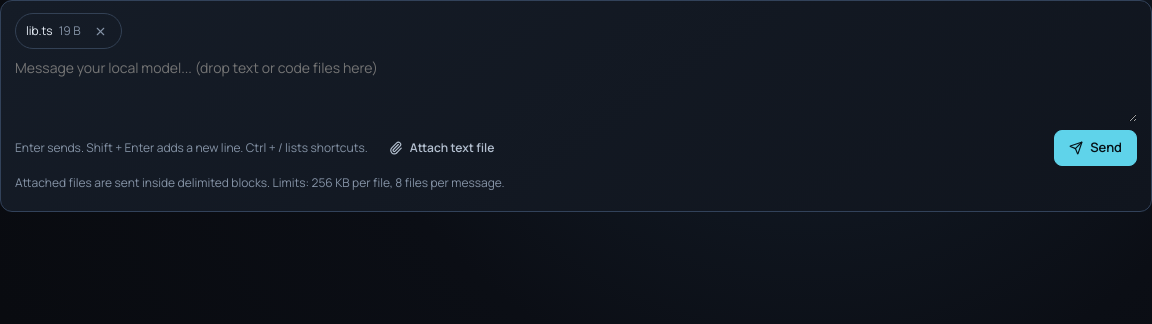
Test case: Composer attachments › attaches a dropped text file as a chip and sends it inside a delimited block
Earlier steps of the test are not shown.
Expected: the text "lib.ts" is shown, top-left (26, 22), bottom-right (53, 40)
Type "What is wrong here?" into the text box labelled "Message" at (576, 90), box top-left (15, 57), bottom-right (1137, 122)
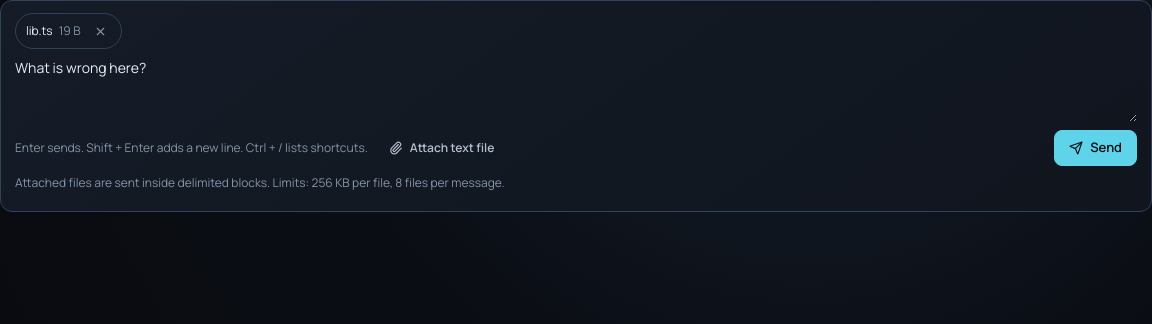
Click the button "Send" at (1096, 148), box top-left (1054, 130), bottom-right (1137, 166)
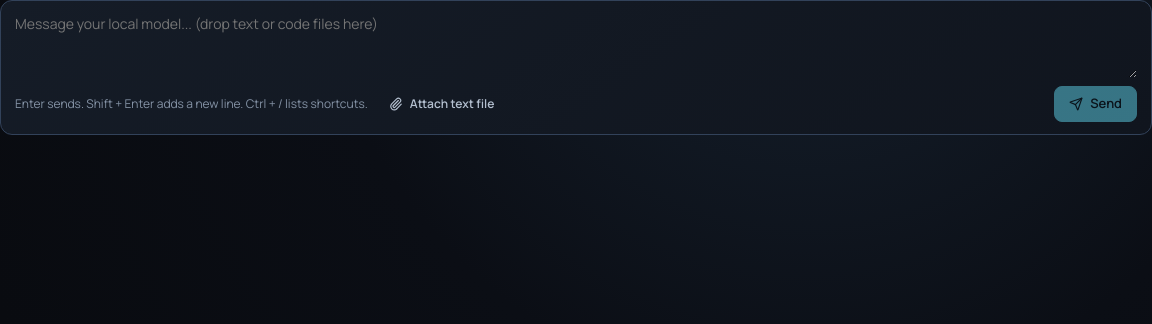
Expected: the text "lib.ts" is gone
